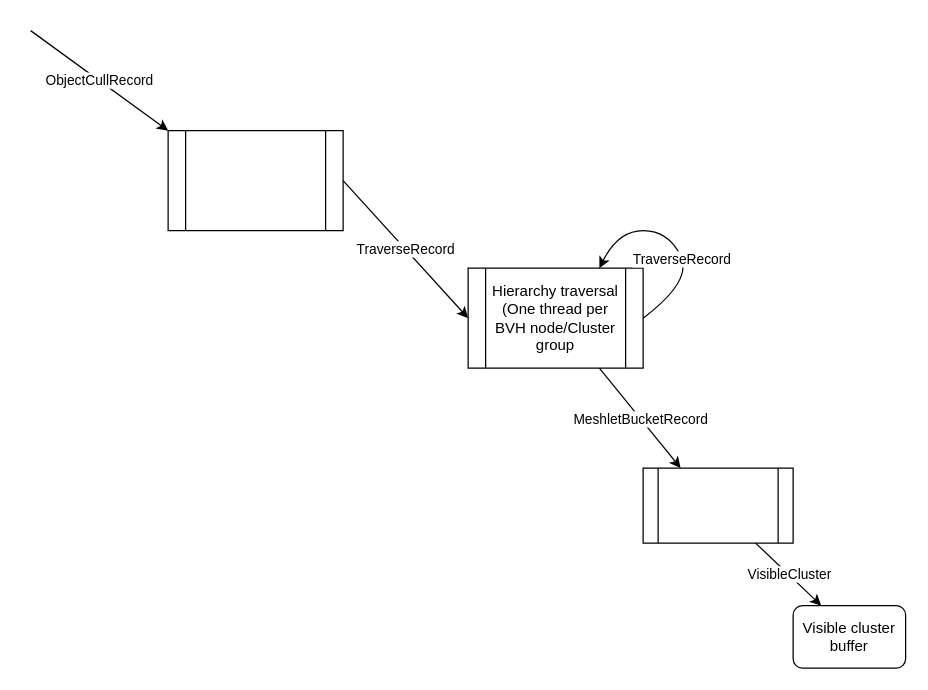
Image size: 928x690. Some labels were removed from this diagram. The centre of each missing label's shape, as x and y in pixels:
Cluster culling (one thread per cluster): (x=717, y=505)
Object culling (One thread per object): (x=255, y=180)
